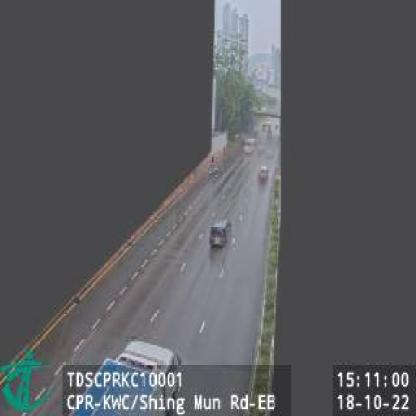Car: (210, 216, 233, 251), (258, 164, 268, 183)
Truck: (62, 338, 190, 416), (244, 136, 256, 155)
